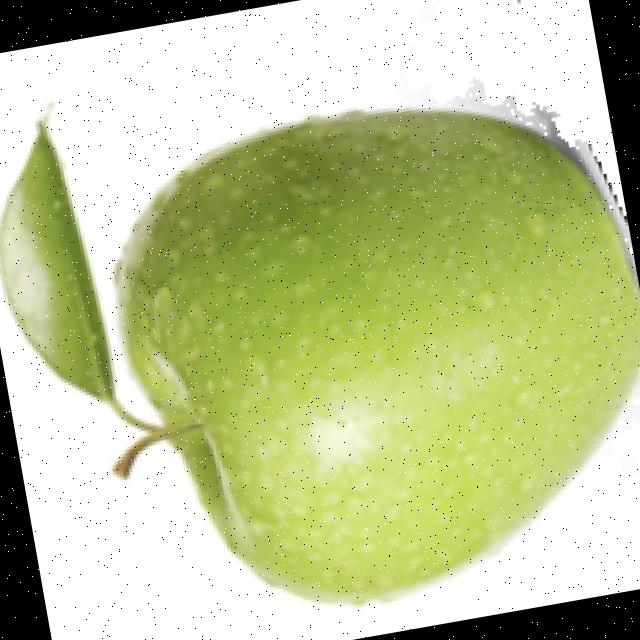apple: (0, 65, 640, 611)
